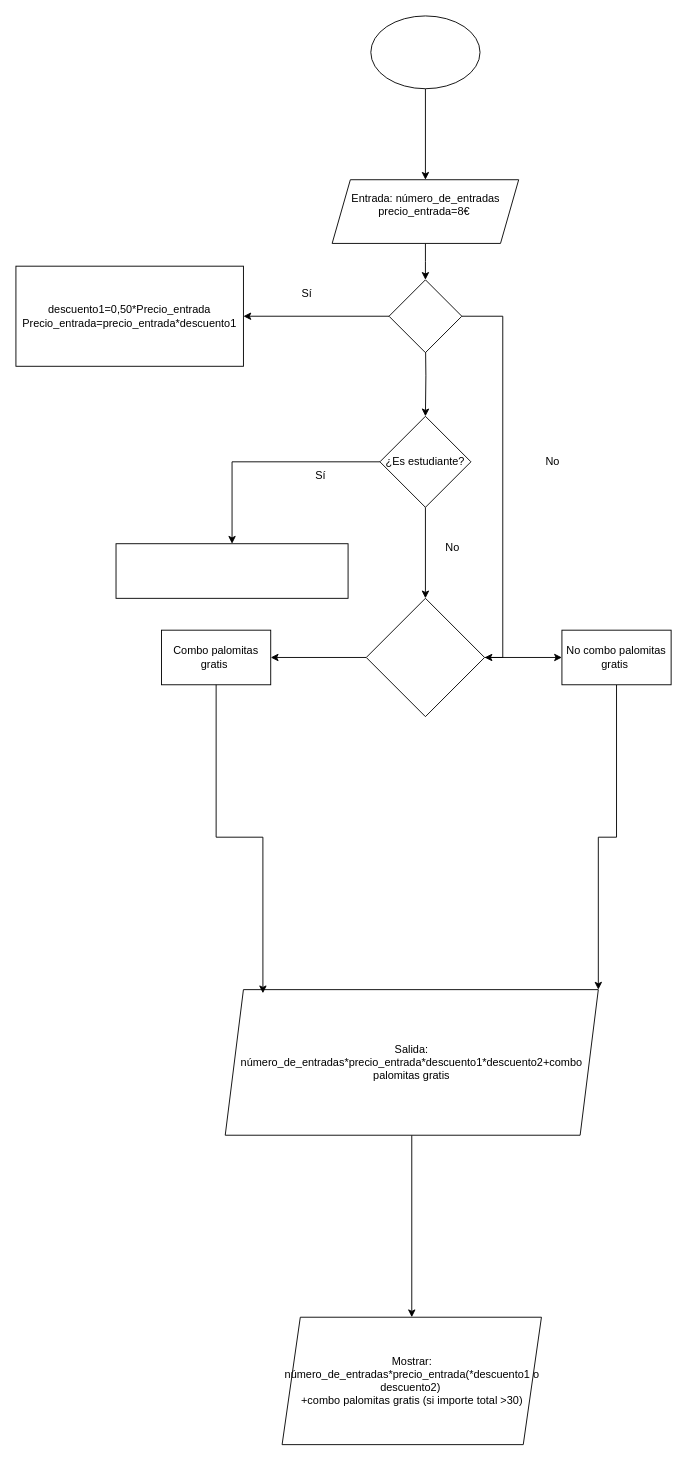
Image size: 687x1461. Some labels were removed from this diagram. Each missing label, with the centre of its shape:
"descuento2= 0,20* Precio_entrada Precio_entrada= precio_entrada*descuento2" goes at point 231,570.
"Importe total >30?" goes at point 425,657.
"Inicio" goes at point 425,52.
"¿MIercoles?" goes at point 425,316.
